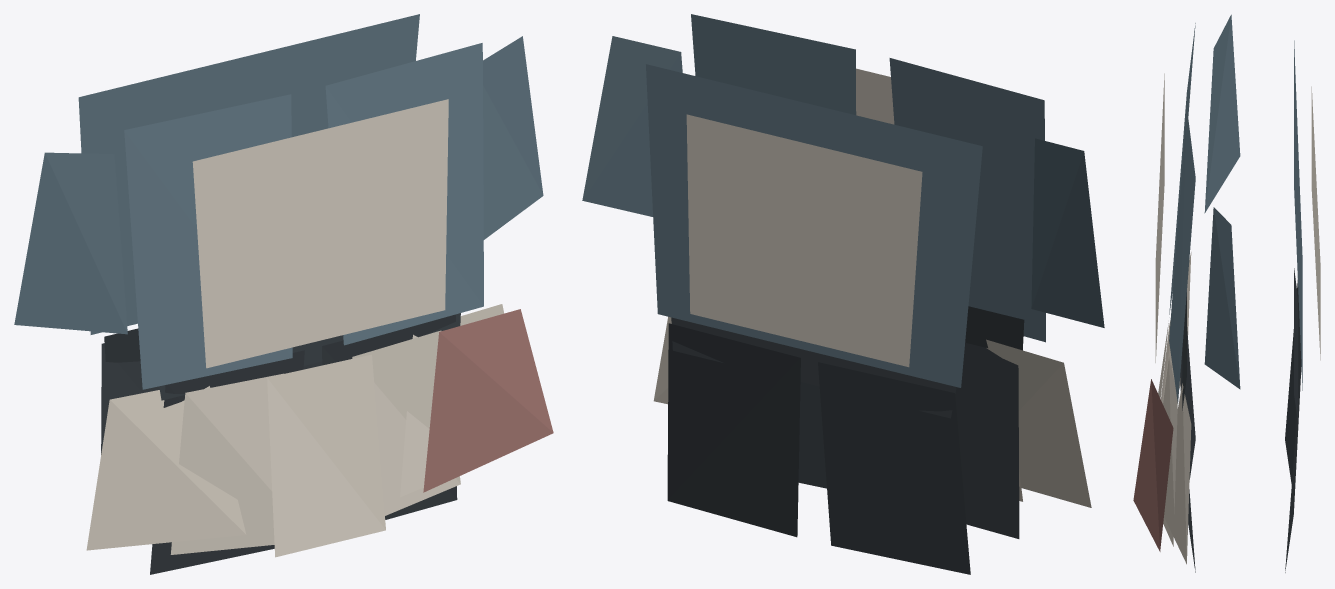
Rendered from petal-hem-tunic.obj.
The picture shows the model from 3 angles, left to right: view 1: azimuth 30°, elevation 25°; view 2: azimuth 150°, elevation 25°; view 3: azimuth 270°, elevation 25°; orthographic projection. The views are drawn at different scales.
Parts seen in each view (by area): view 1: inner_front, tunic_front_L, tunic_back, petal_C, sleeve_L, tunic_front_R, petal_A, overlap_flap_R, petal_B, sleeve_R, petal_D, shorts_front_L (+5 smaller); view 2: inner_back, tunic_back, shorts_back_L, shorts_back_R, tunic_front_L, sleeve_L, shorts_front_L, tunic_front_R, sleeve_R, petal_A, waistband_inner, shorts_front_R (+3 smaller); view 3: sleeve_R, sleeve_L, overlap_flap_R, tunic_front_R, petal_E, tunic_back, inner_front, shorts_back_L, inner_back, petal_D, shorts_front_L, tunic_front_L (+5 smaller).
Part boxes in pixels (x1,y1,x2,y2): inner_front: (192, 99, 448, 368); tunic_front_L: (124, 94, 292, 389); tunic_back: (78, 14, 419, 334); petal_C: (267, 354, 385, 557); sleeve_L: (14, 152, 127, 334); tunic_front_R: (325, 43, 483, 345); petal_A: (86, 386, 246, 550); overlap_flap_R: (423, 309, 553, 492); petal_B: (170, 373, 283, 554); sleeve_R: (483, 36, 543, 239); petal_D: (352, 330, 460, 515); shorts_front_L: (150, 350, 304, 574); inner_back: (686, 114, 922, 367); tunic_back: (646, 64, 982, 387); shorts_back_L: (818, 362, 970, 574); shorts_back_R: (667, 323, 800, 537); tunic_front_L: (889, 58, 1045, 342); sleeve_L: (1031, 138, 1104, 327); shorts_front_L: (955, 342, 1019, 538); tunic_front_R: (691, 14, 856, 115); sleeve_R: (582, 36, 682, 216); petal_A: (986, 339, 1091, 507); waistband_inner: (671, 317, 956, 418); shorts_front_R: (798, 382, 826, 488); sleeve_R: (1204, 207, 1240, 389); sleeve_L: (1204, 14, 1240, 213); overlap_flap_R: (1133, 379, 1173, 551); tunic_front_R: (1169, 108, 1195, 403); petal_E: (1164, 383, 1191, 564); tunic_back: (1294, 40, 1302, 390); inner_front: (1155, 73, 1164, 362); shorts_back_L: (1285, 279, 1301, 484); inner_back: (1311, 86, 1320, 360); petal_D: (1163, 357, 1177, 546); shorts_front_L: (1180, 327, 1195, 479); tunic_front_L: (1169, 23, 1195, 314).
Size of the model in its own units: 1.24 by 1.01 by 0.42.
